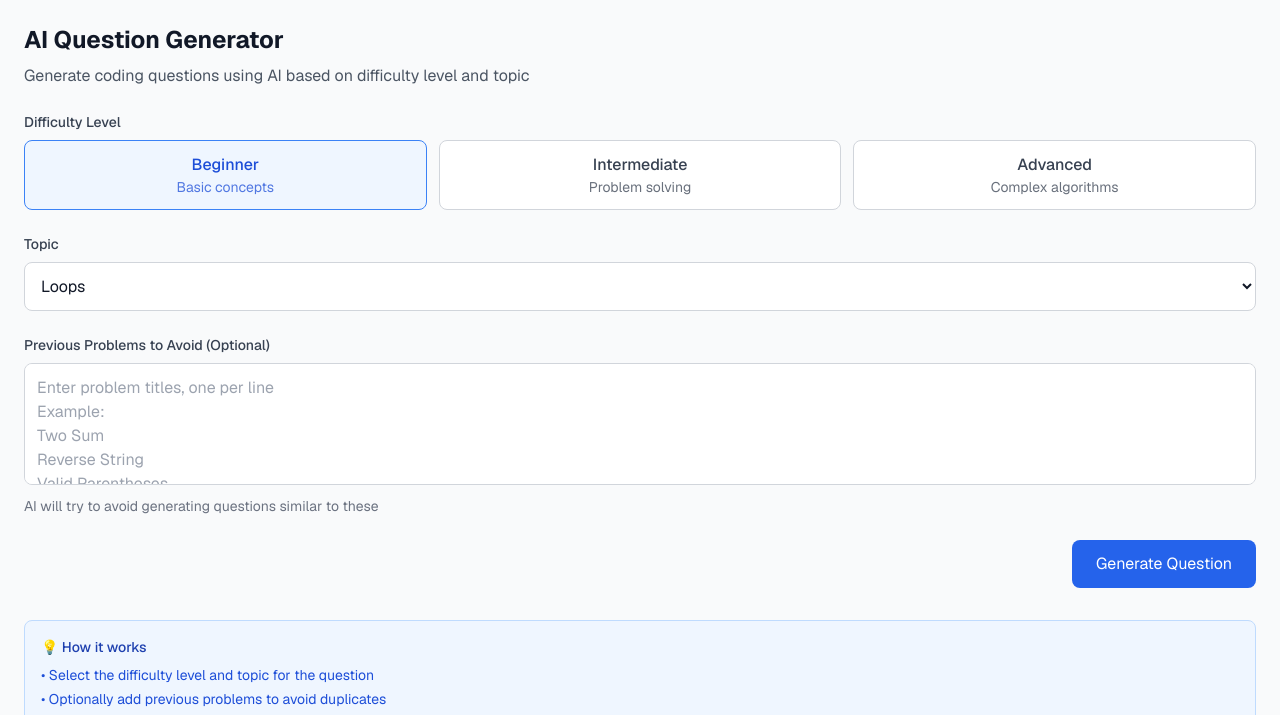
Test: QuestionGenerator › handles API errors gracefully
Click the button "Generate Question": (1164, 564) 1072,540 -> 1256,588
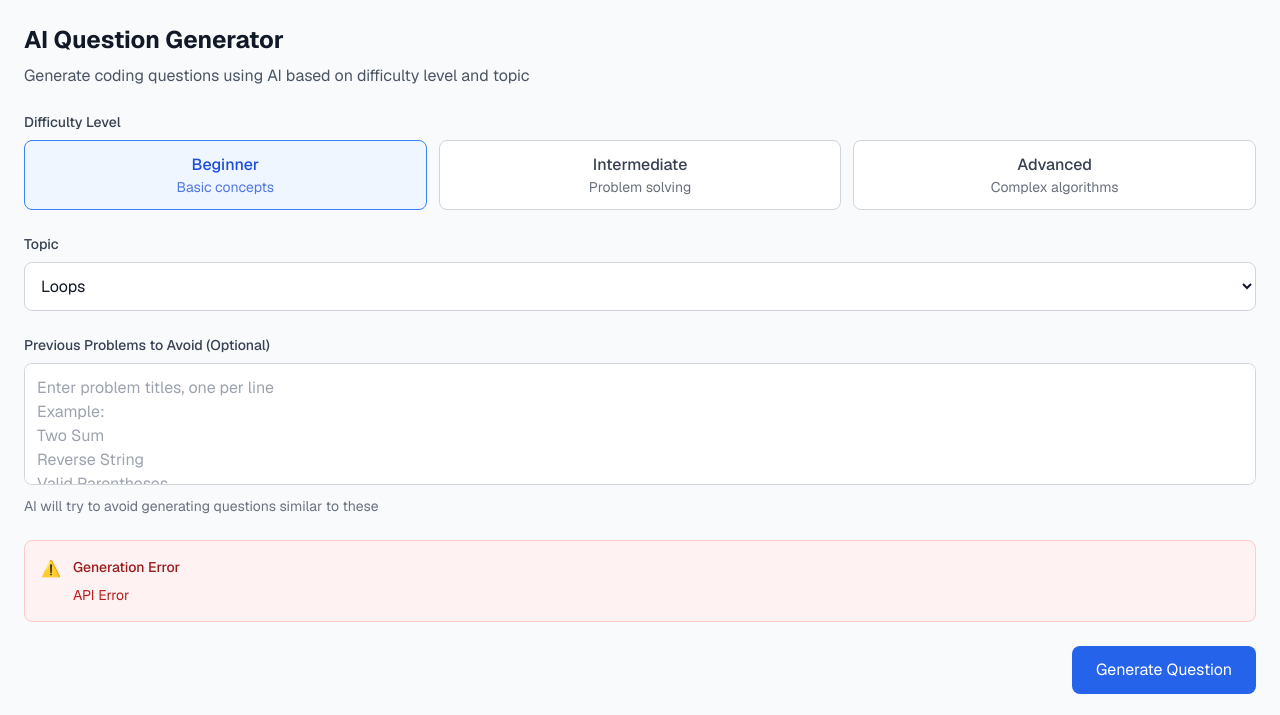
Expected: the heading "Generation Error" is shown, 73,557 -> 180,577
Expected: the text "API Error" is shown, 73,586 -> 129,604
